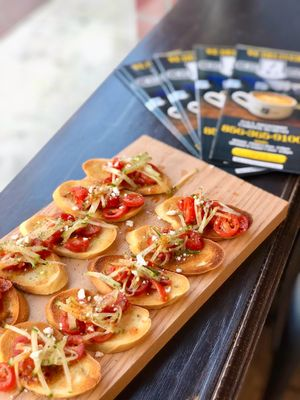sandwich: (0, 140, 288, 393), (125, 193, 226, 275), (0, 320, 103, 400), (45, 279, 153, 354), (87, 253, 190, 309)
